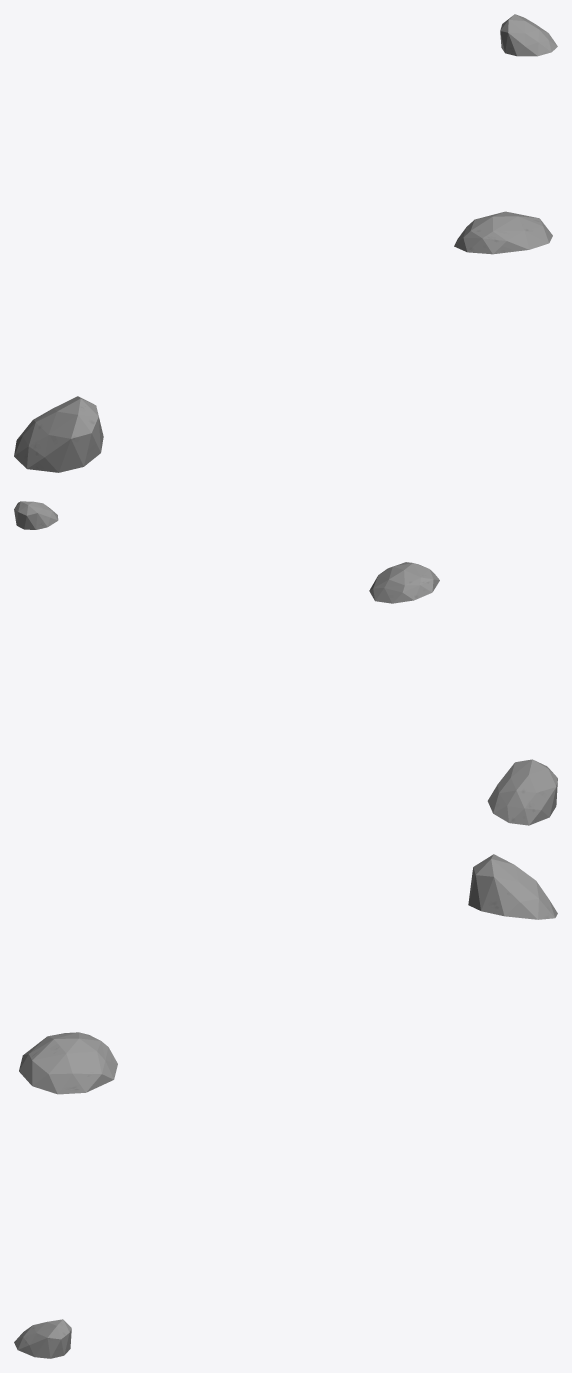
Rendered from Stones13.gltf.
The picture shows the model from 3 angles, top to bottom: view 1: azimuth 90°, elevation 25°; view 2: azimuth 150°, elevation 25°; view 3: azimuth 270°, elevation 25°; orthographic projection. The views are drawn at different scales.
Visible parts, largest first — view 1: Stone1.004 - copy.008, Stone3 - copy.001, Stone1.004 - copy.003; view 2: Stone1.004 - copy.008, Stone3 - copy.001, Stone1.004 - copy.003; view 3: Stone3 - copy.001, Stone1.004 - copy.008, Stone1.004 - copy.003.
Boxes of the visible parts, x1,y1,x2,y2 form: Stone1.004 - copy.008: (14,396,103,472); Stone3 - copy.001: (454,211,552,254); Stone1.004 - copy.003: (500,14,557,56); Stone1.004 - copy.008: (487,759,557,825); Stone3 - copy.001: (369,562,439,603); Stone1.004 - copy.003: (14,501,58,529); Stone3 - copy.001: (19,1032,117,1094); Stone1.004 - copy.008: (468,854,557,919); Stone1.004 - copy.003: (14,1319,71,1358).
Bounding box in the file's own units: 20.09 × 1.5 × 10.32.
2 materials, 2 textured.
